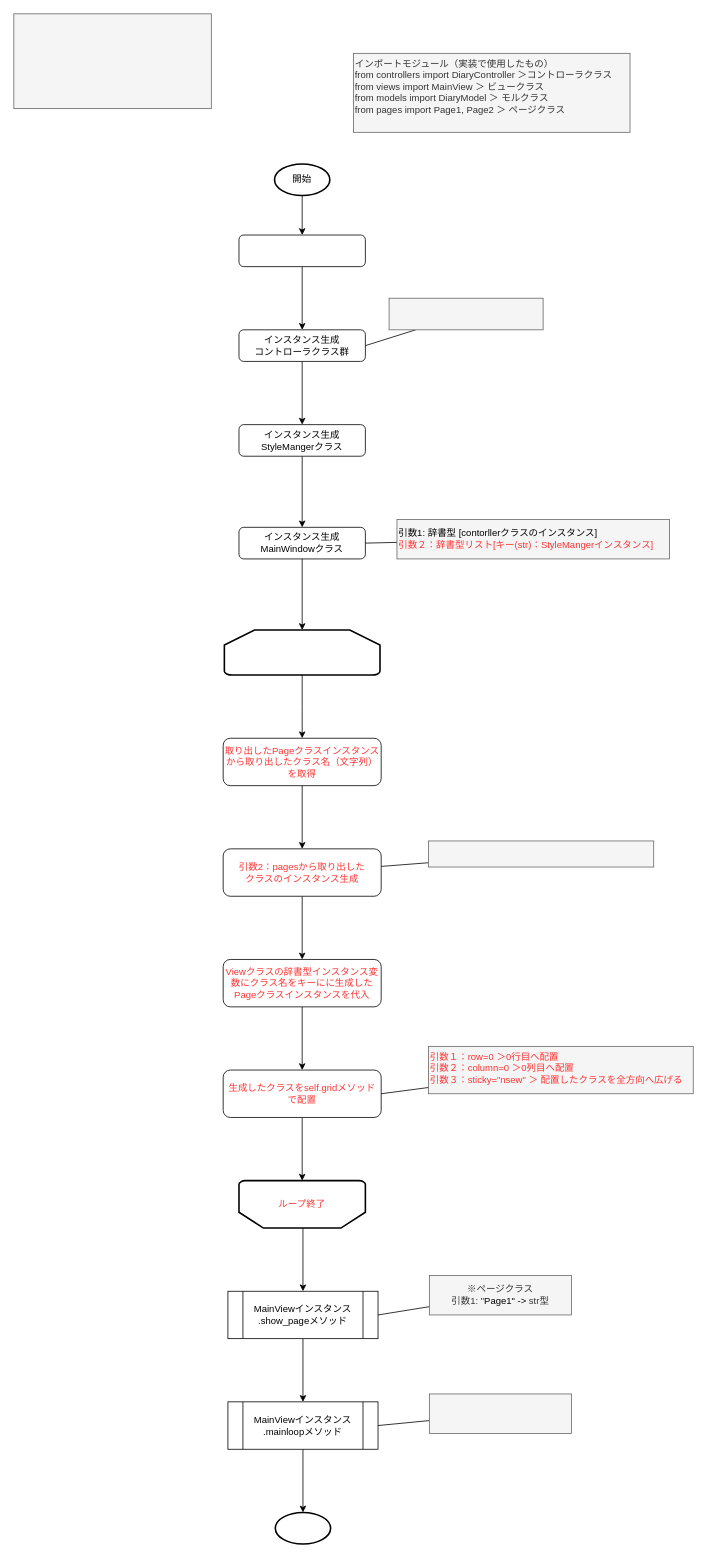
Some shapes in this 707 by 1559 pixel diagram are drawn without their labels. Each missing label, with the centre of its shape:
MainWindowクラス: [500,1413]
MainWindowクラスに配置する、 Pageクラスの配列分ループする ループ開始: [301,652]
インスタンス生成 モデルクラス群: [301,250]
エントリポイント（実行ファイル） 関数の役割 ・アプリ起動 ・各クラスの連携: [112,61]
引数について 連携に必要なモデルクラスを渡す: [465,313]
引数１：master=MainViewクラスのインスタンス: [541,853]
終了: [302,1527]
